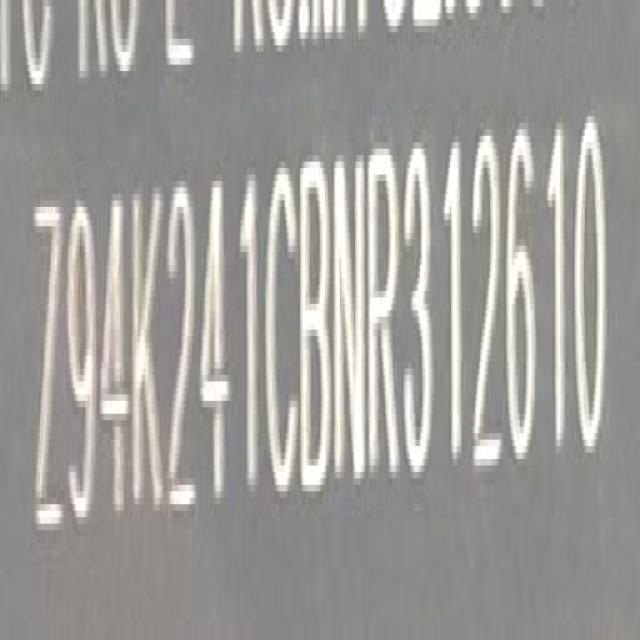0: (572, 114, 610, 460)
1: (235, 166, 259, 512), (441, 136, 465, 480), (545, 116, 568, 463)
2: (165, 181, 202, 530), (470, 124, 504, 473)
3: (406, 136, 437, 484)
4: (98, 189, 132, 533), (200, 174, 233, 522)
6: (507, 126, 540, 468)
9: (66, 197, 98, 542)
B: (300, 156, 335, 496)
C: (263, 163, 298, 504)
K: (131, 182, 168, 530)
N: (335, 148, 369, 492)
R: (368, 146, 404, 487)
Z: (33, 198, 66, 554)
